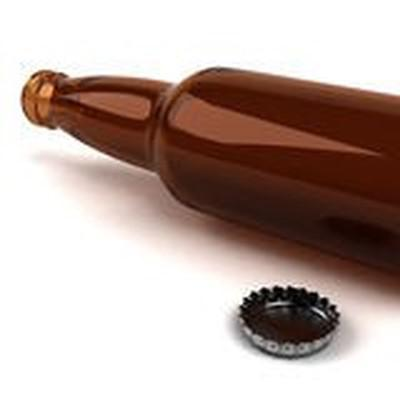beer: (18, 67, 400, 284)
